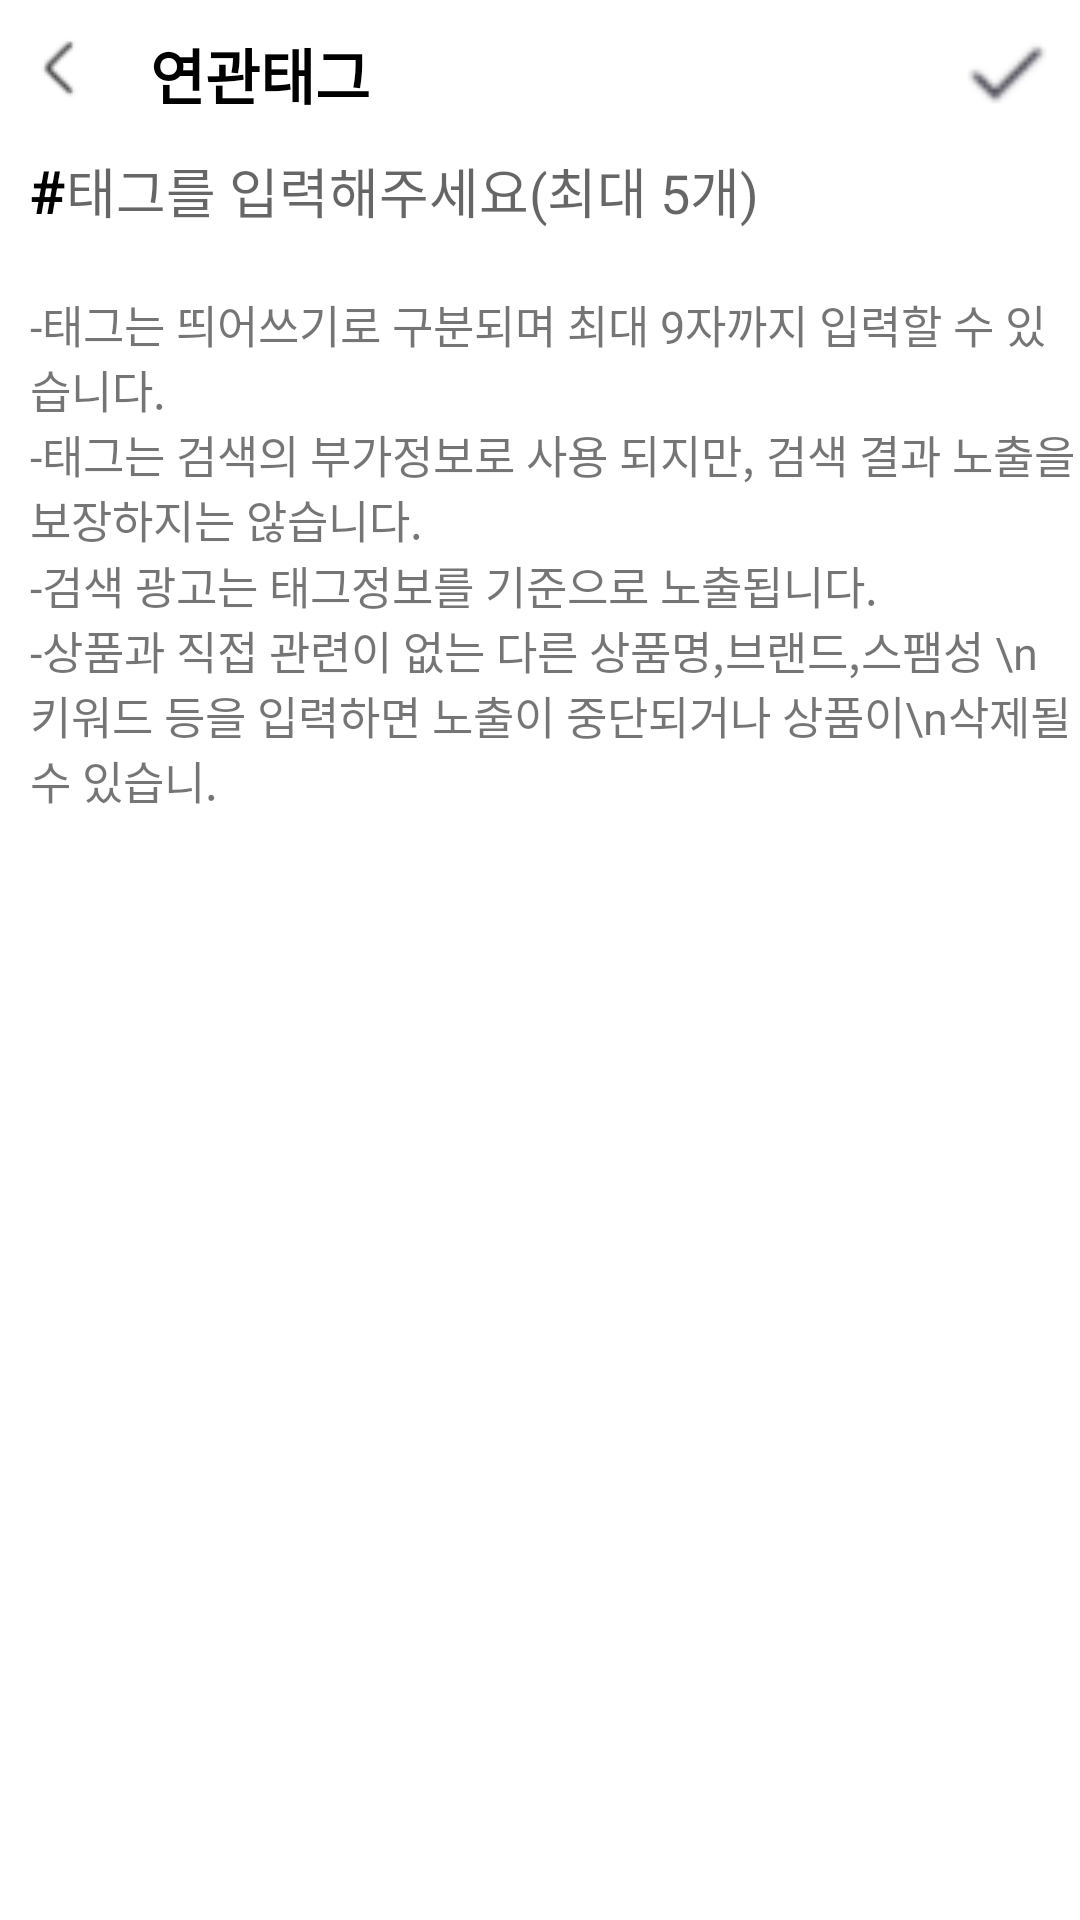

Icon bounding boxes for this 1080*1920 phone screenshot, format detection(x1, y1, x2, y2):
back arrow: detection(44, 41, 73, 95)
